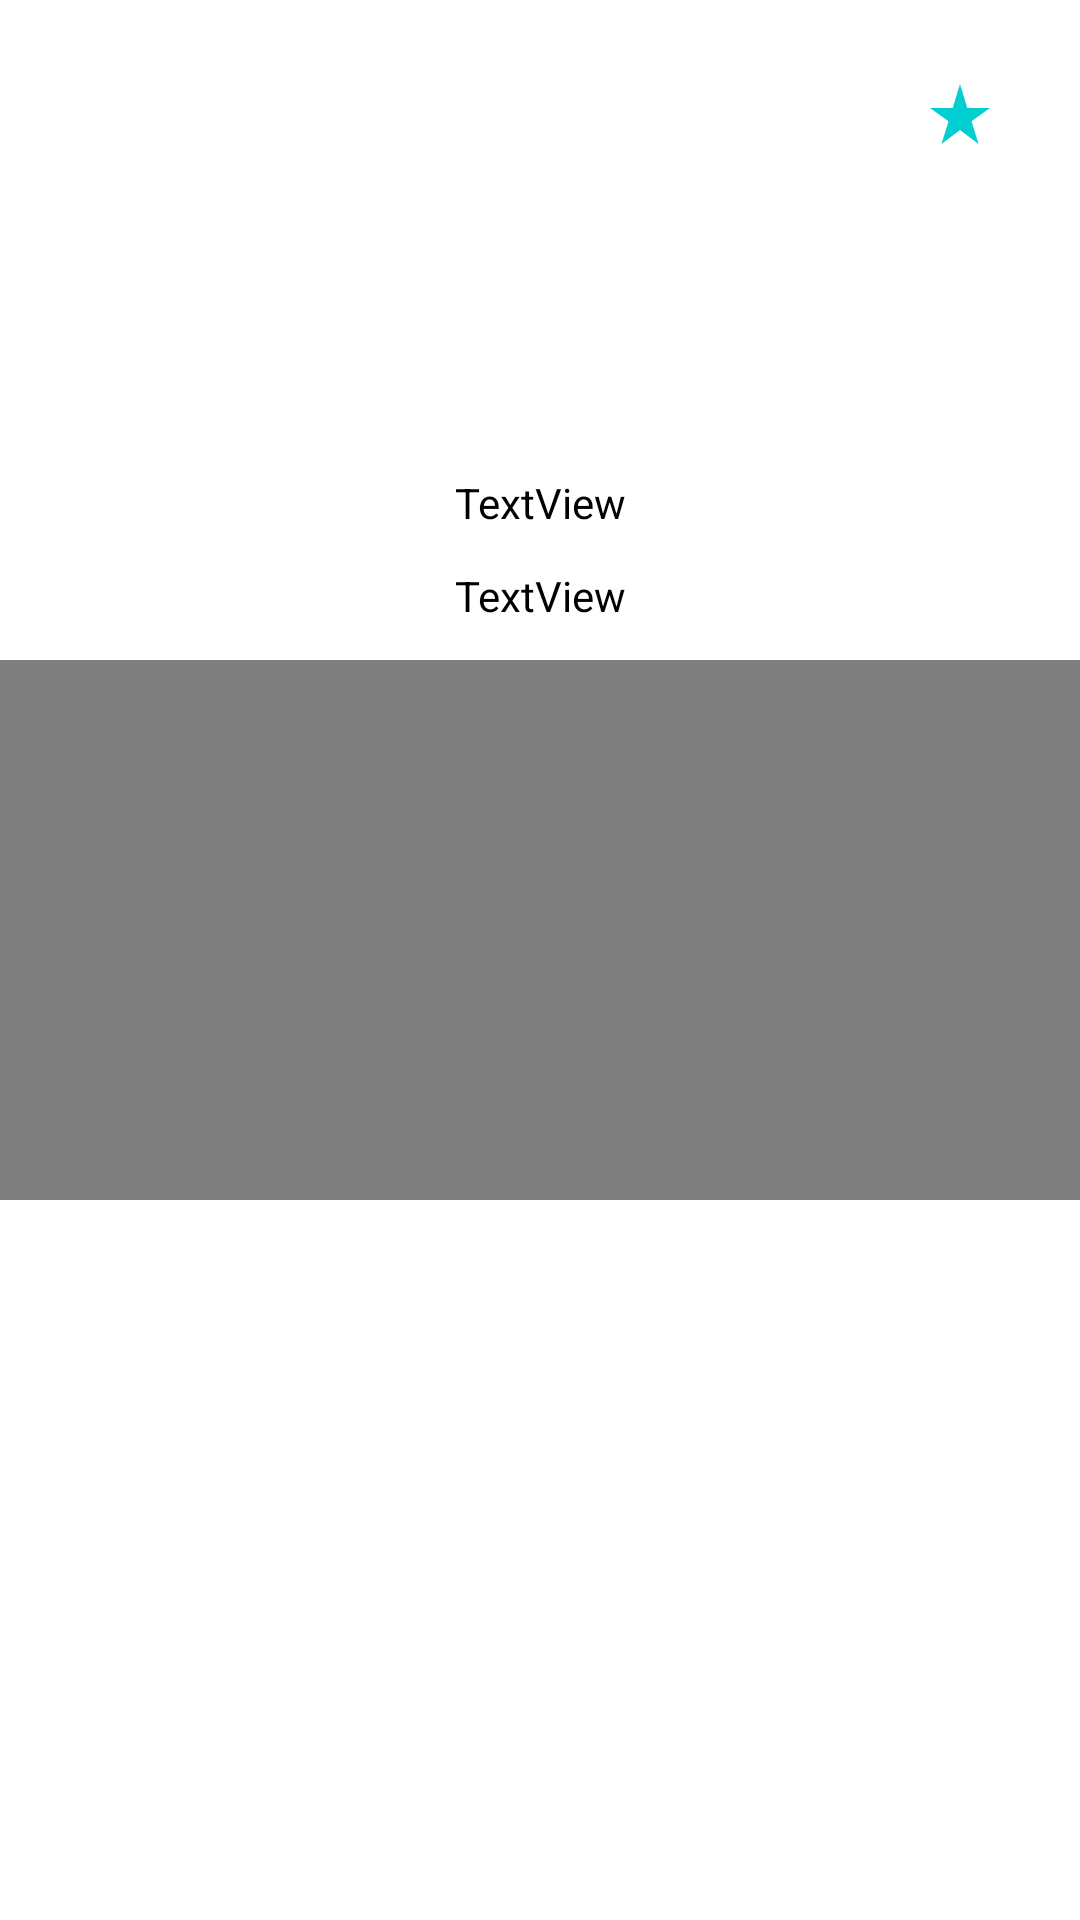

Icons on this 1080×1920 Android screen, each with its box as [x1, y1, x2, y2]:
favouritesicon: [930, 84, 990, 144]
